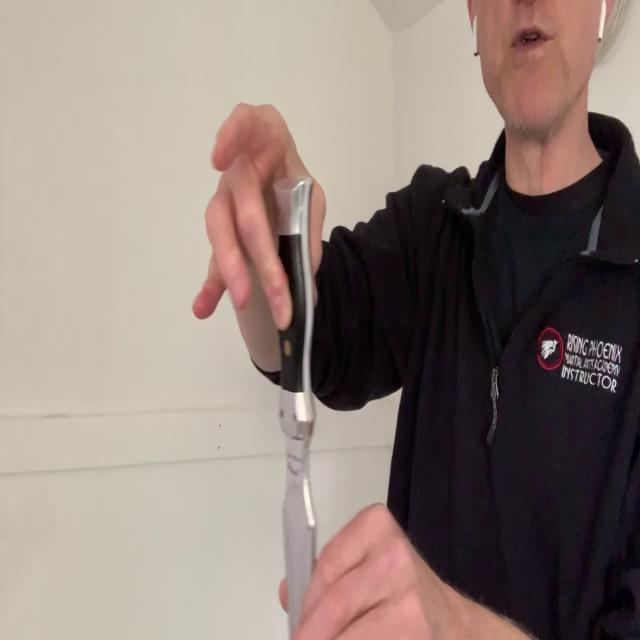Knife_Handle: (273, 172, 448, 640), (192, 103, 327, 640)
